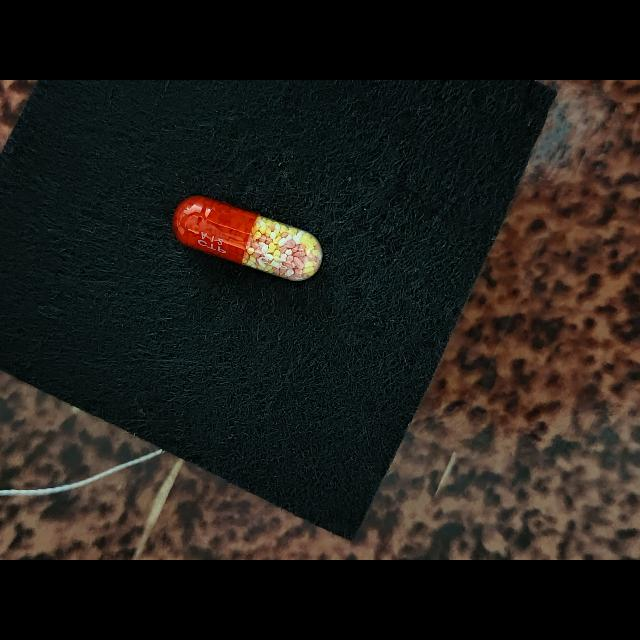Intact Capsule: (173, 196, 323, 281)
